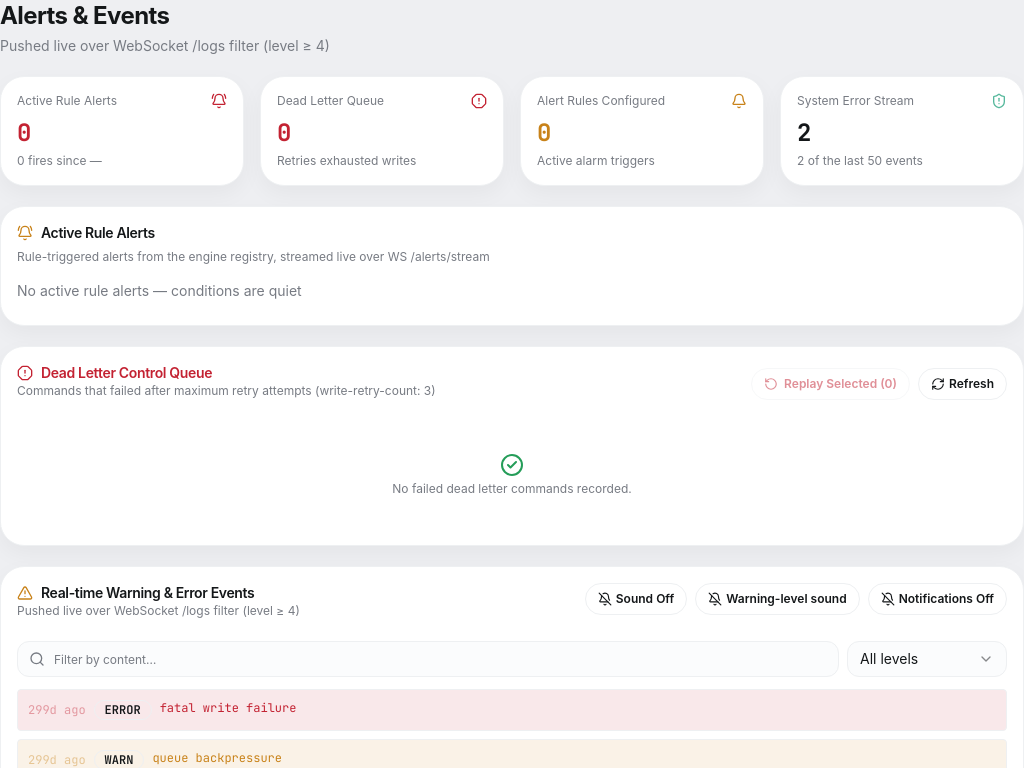
Test: AlertsPage — shared feed rendering › narrows the visible rows with the free-text filter on top of the shared feed
expect the text "fatal write failure" is shown: met, box [160,700,296,716]
expect the text "queue backpressure" is shown: met, box [152,750,282,766]
Type "fatal" into the field with placeholder "Filter by content…".
click(428, 659); type("fatal")  # box [17,641,839,677]
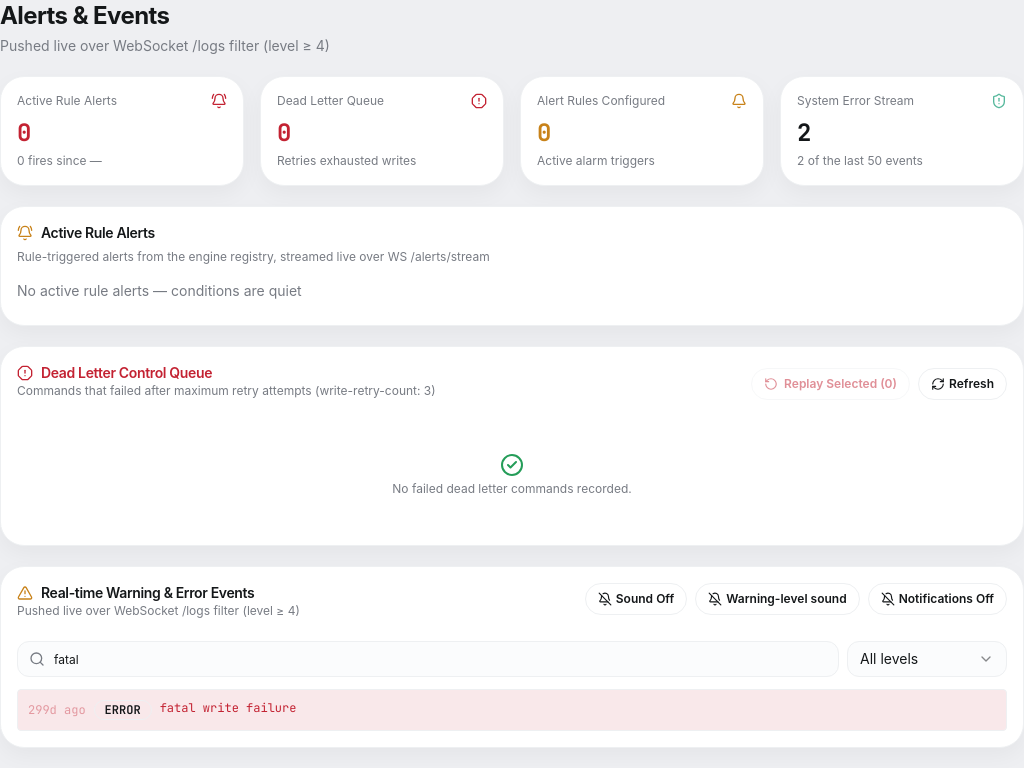
expect the text "fatal write failure" is shown: met, box [160,700,296,716]
expect the text "queue backpressure" is gone: met
